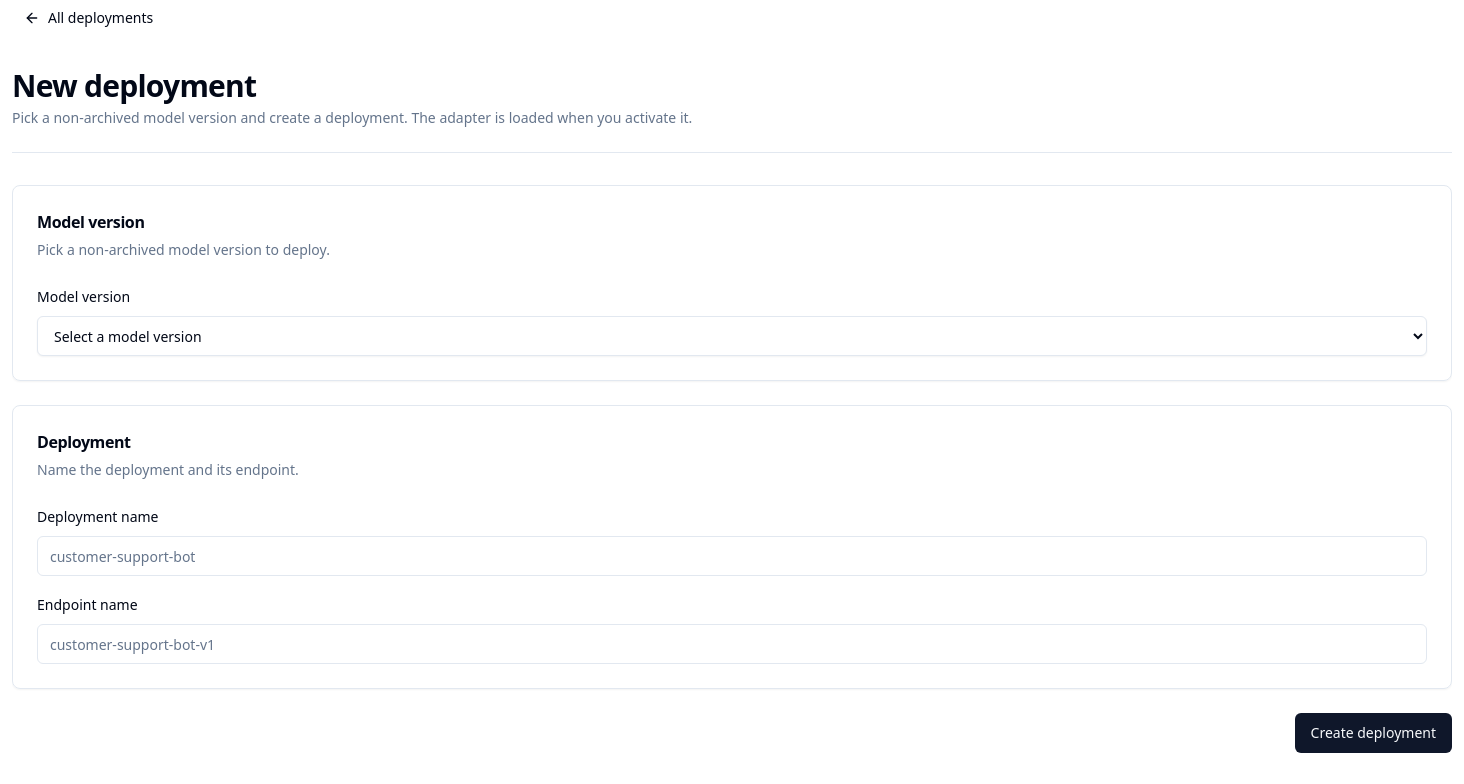
NewDeploymentPage › surfaces a backend validation error inline
The width and height of the screenshot is (1464, 784).
Select "customer-support-lora · v1 · staging" in the dropdown labelled "Model version" at {"x": 732, "y": 336}, box top-left (37, 316), bottom-right (1427, 356)
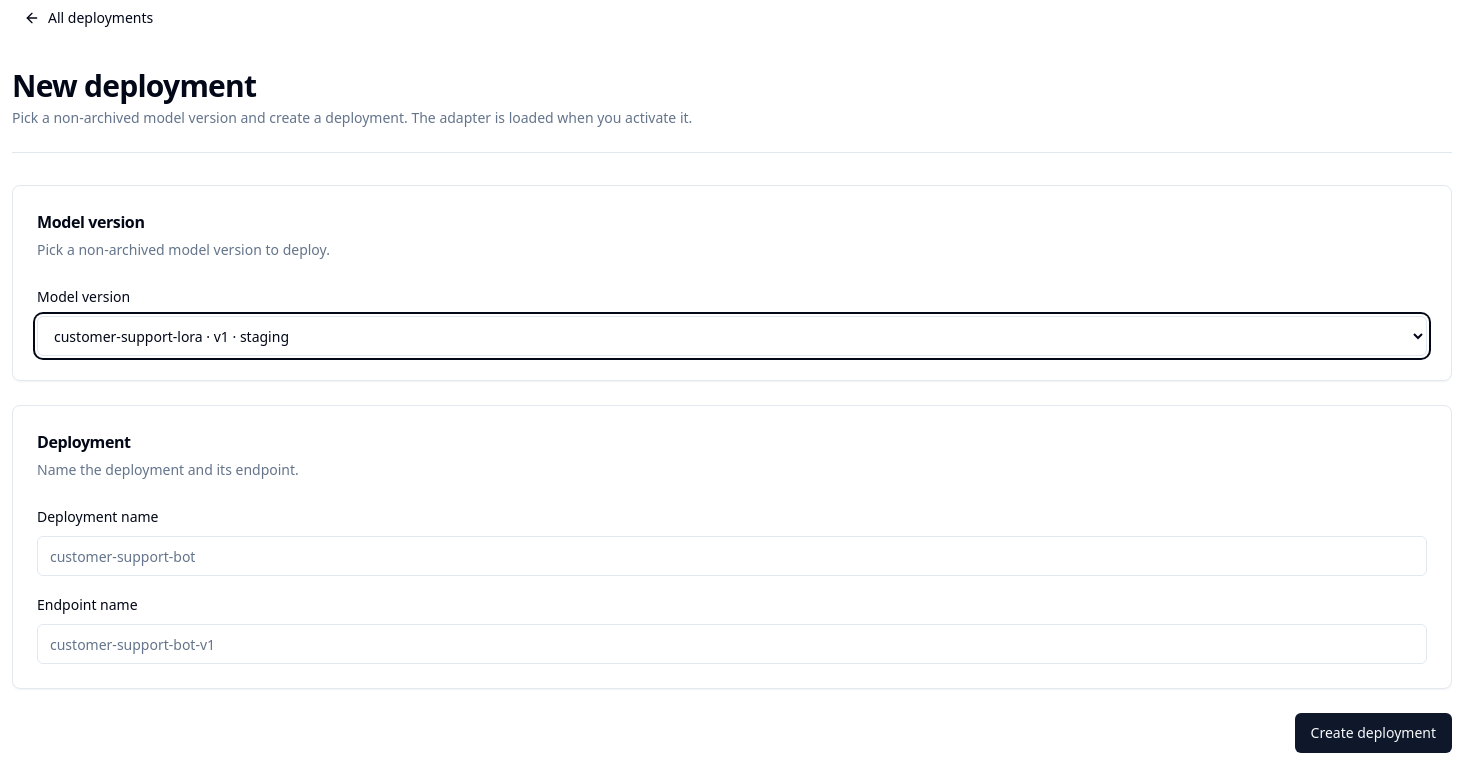
Type "support-bot" into the field labelled "Deployment name" at {"x": 732, "y": 556}, box top-left (37, 536), bottom-right (1427, 576)
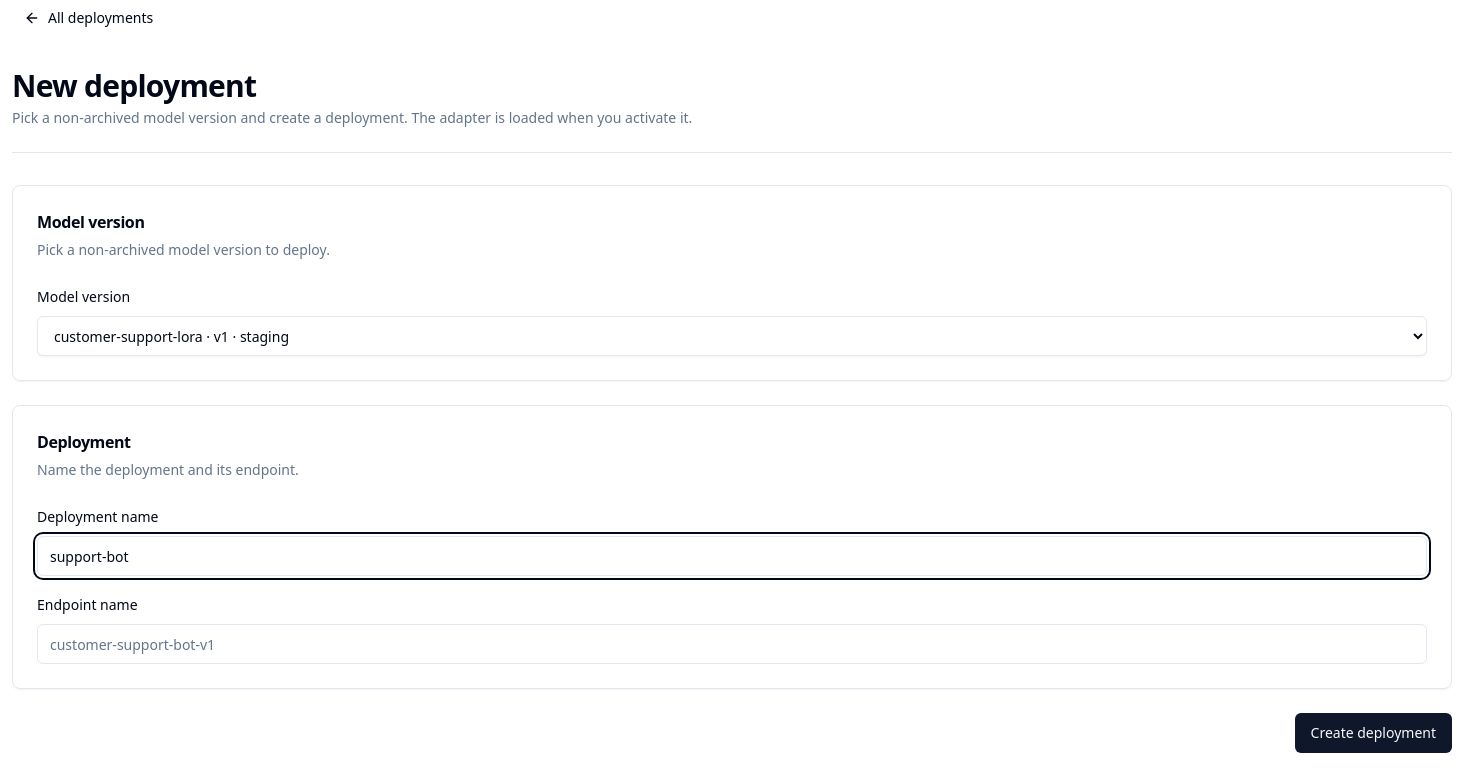
Type "support-bot-v1" into the field labelled "Endpoint name" at {"x": 732, "y": 644}, box top-left (37, 624), bottom-right (1427, 664)
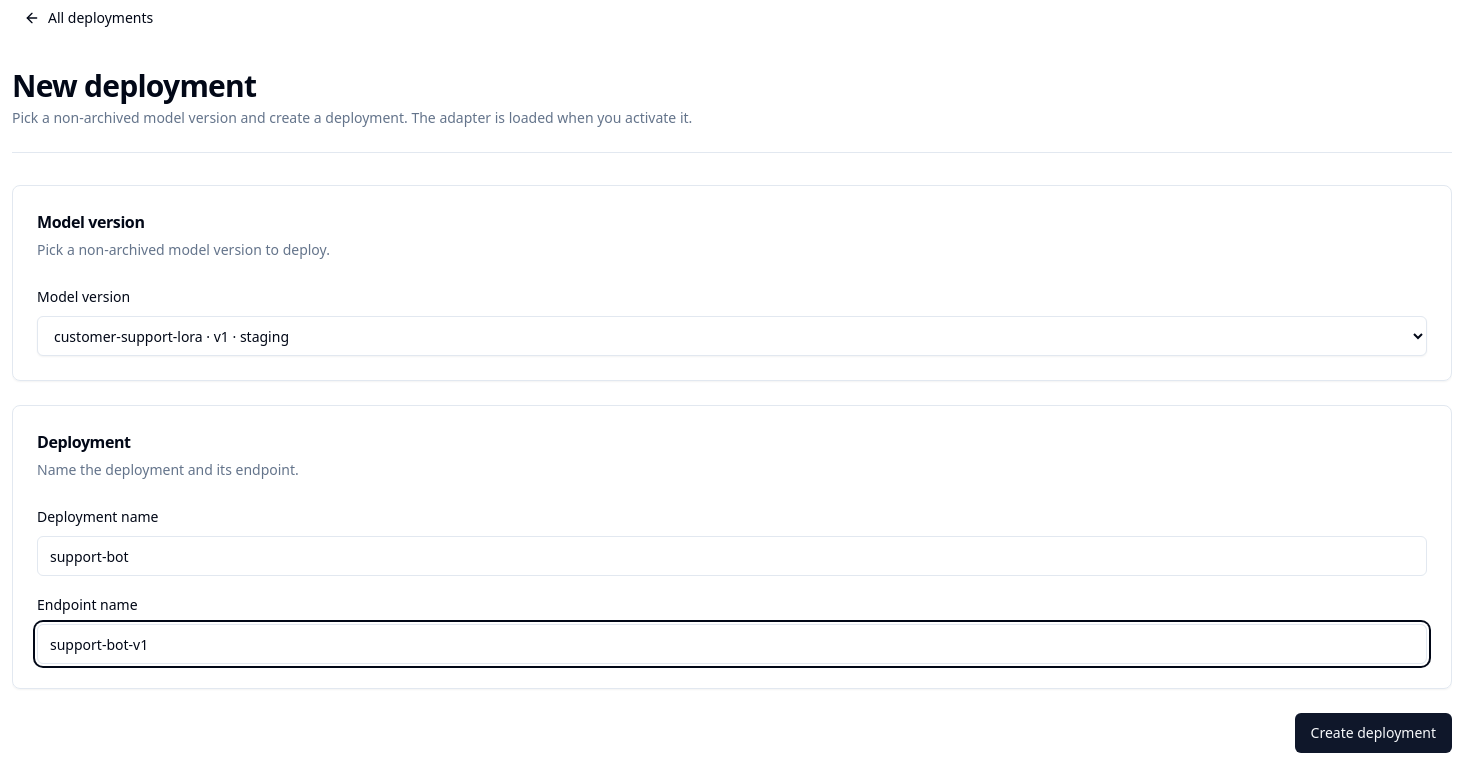
Click the button "Create deployment" at {"x": 1373, "y": 733}, box top-left (1294, 713), bottom-right (1452, 753)
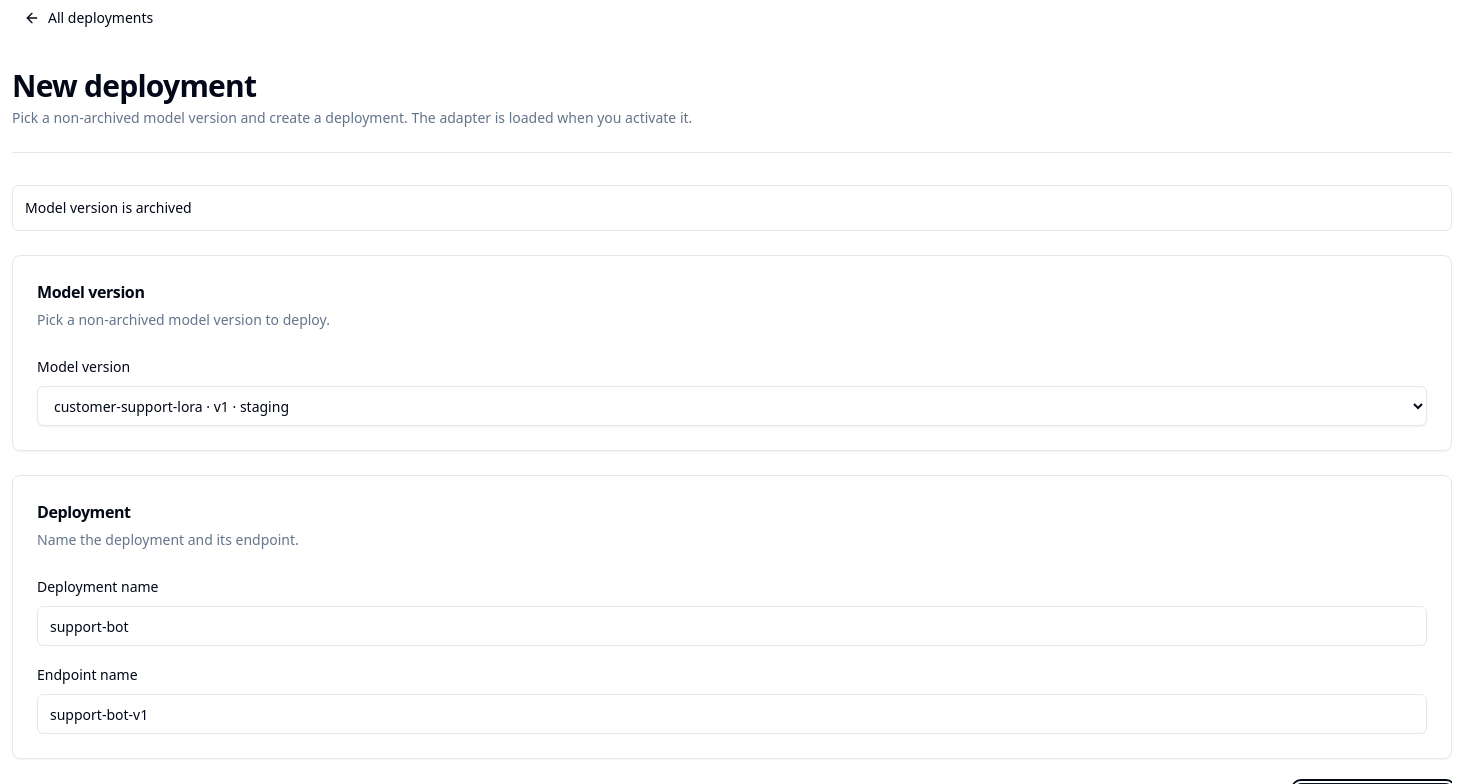
expect the text "Model version is archived" is shown: met, box top-left (12, 185), bottom-right (1452, 231)
